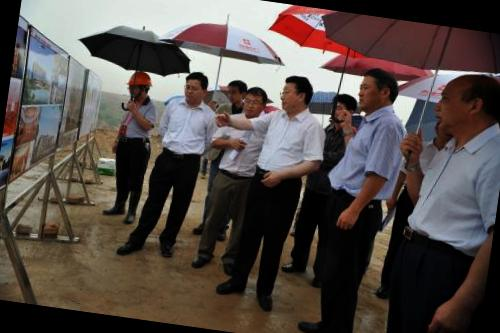no_helmet: (428, 68, 500, 148), (353, 63, 401, 116), (276, 70, 317, 118), (328, 89, 360, 129), (240, 84, 272, 122), (180, 69, 212, 106), (221, 76, 249, 108)
